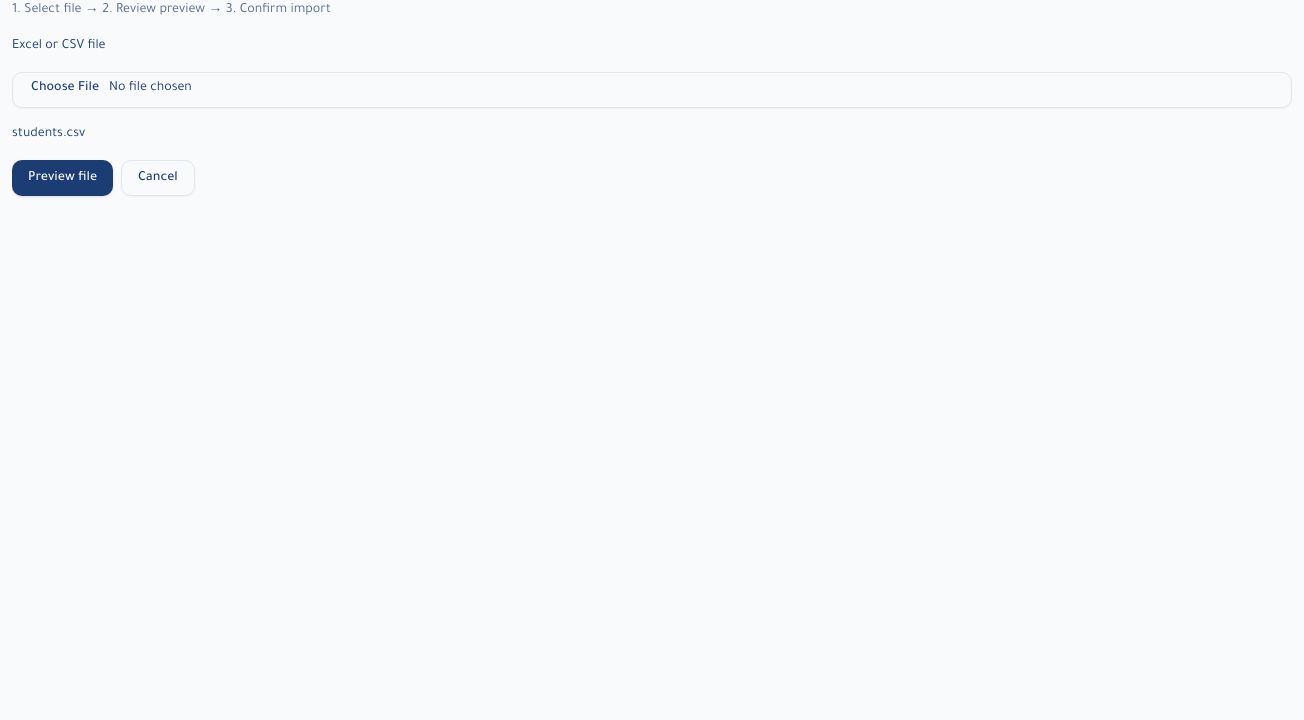
it: mandatory external import review › searches all rows, shows contacts and relationships, and requires warning acknowledgement
Earlier steps of the test are not shown.
Click the button "Preview file": (63, 178) [12,160,113,196]
(page scrolled)
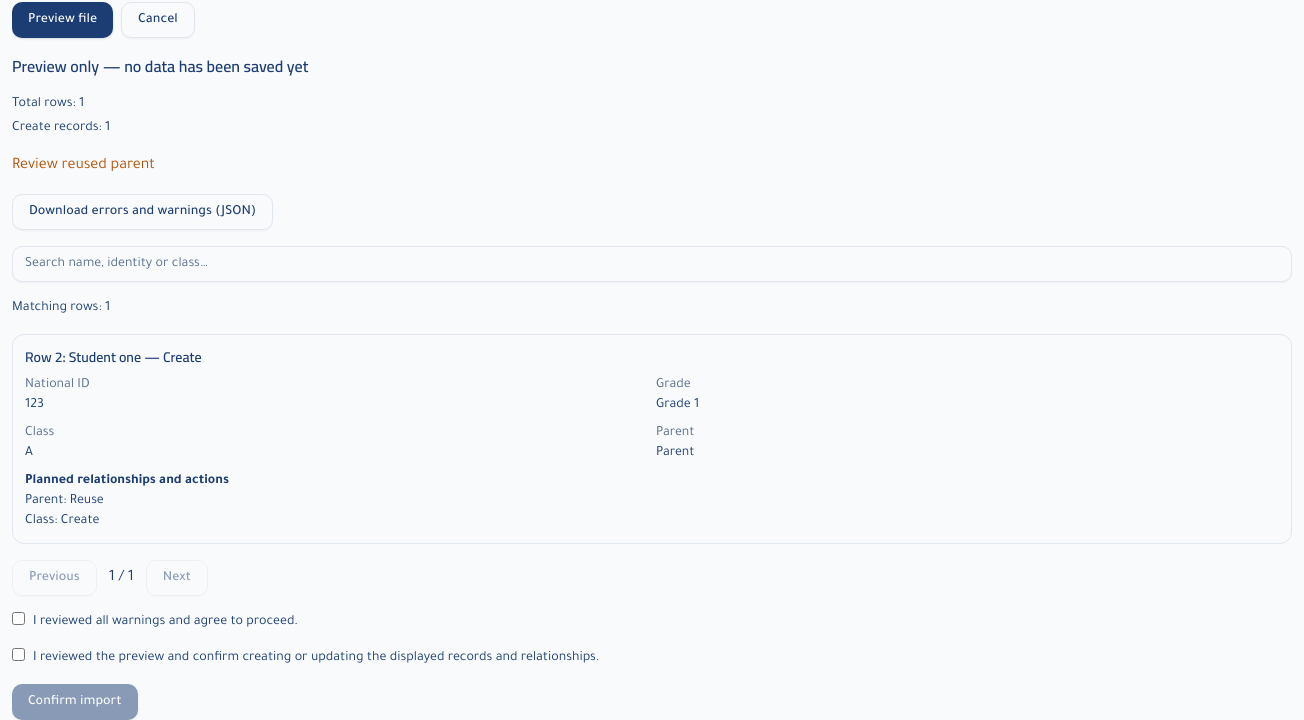
Expected: the heading "Preview only — no data has been saved yet" is shown, [12,51,308,81]
Expected: the text "123" is shown, [25,398,44,412]
Expected: the text "Parent: Reuse" is shown, [25,494,104,508]
Click the checkbox labelled "I reviewed the preview": (18, 654) [12,648,25,661]
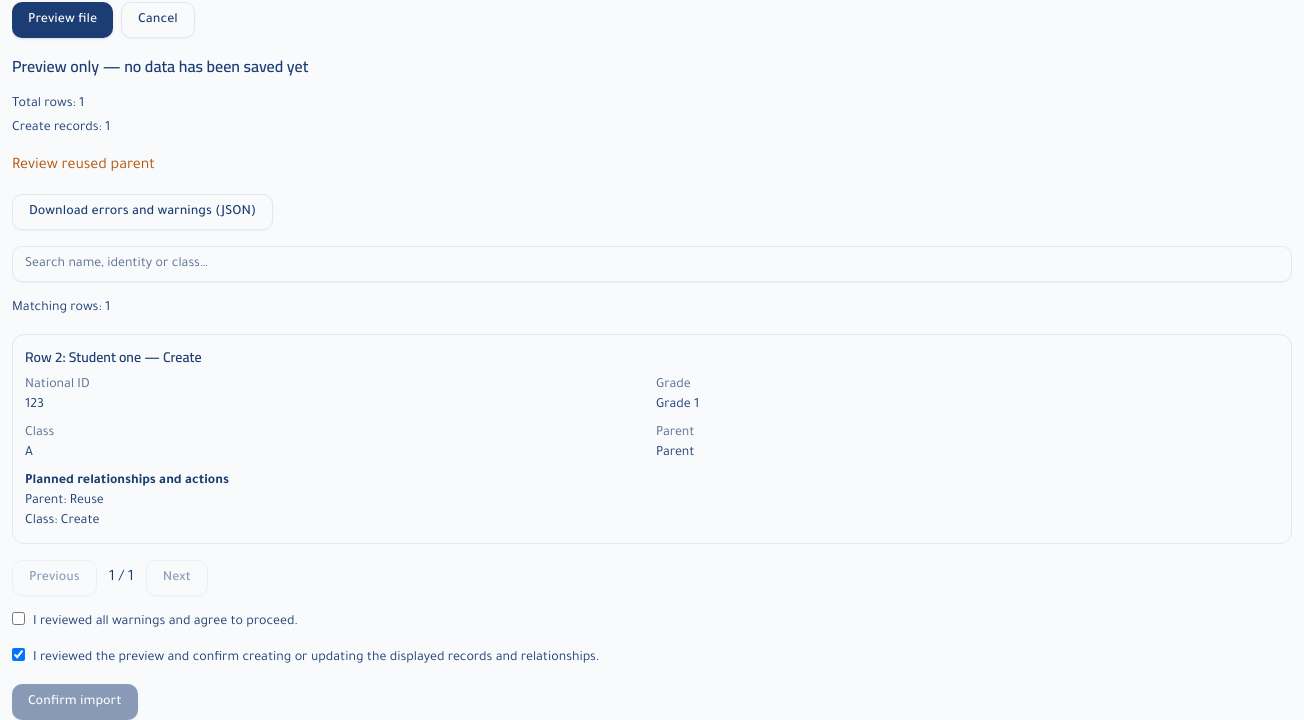
Expected: the button "Confirm import" is disabled, [12,684,138,719]
Click the checkbox labelled "I reviewed all warnings and agree to proceed.": (18, 618) [12,612,25,625]
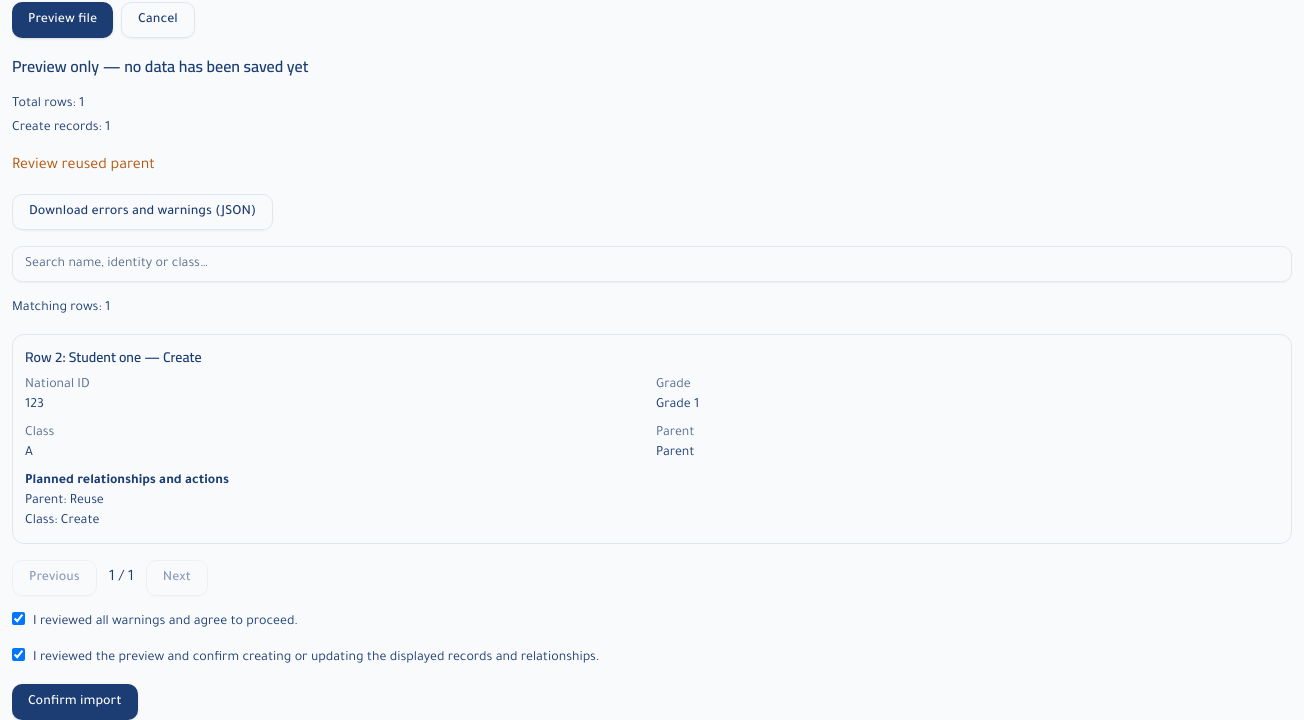
Expected: the button "Confirm import" is enabled, [12,684,138,719]
In the field named "Search preview rows": (652, 264) [12,246,1292,282], type "missing"
(page scrolled)
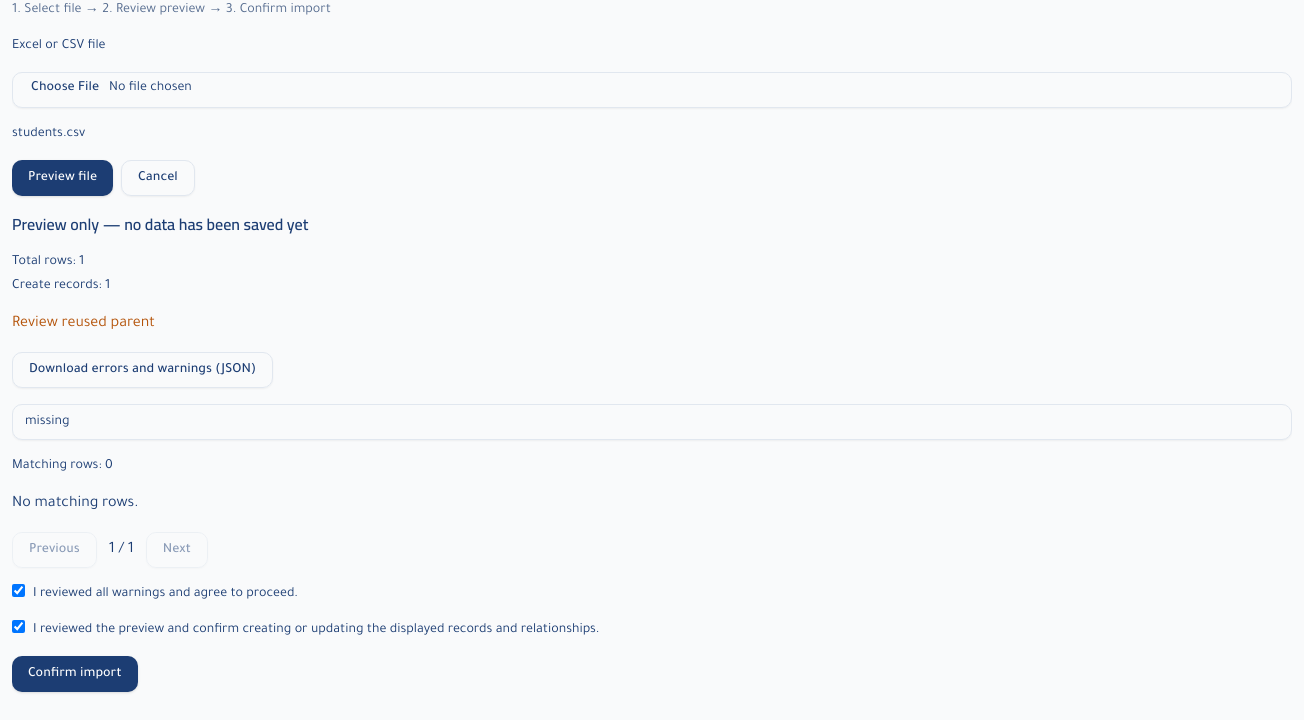
Expected: the text "No matching rows." is shown, [12,496,138,512]
Replace the text in the field named "Search preview rows" with "123": (652, 422) [12,404,1292,440]
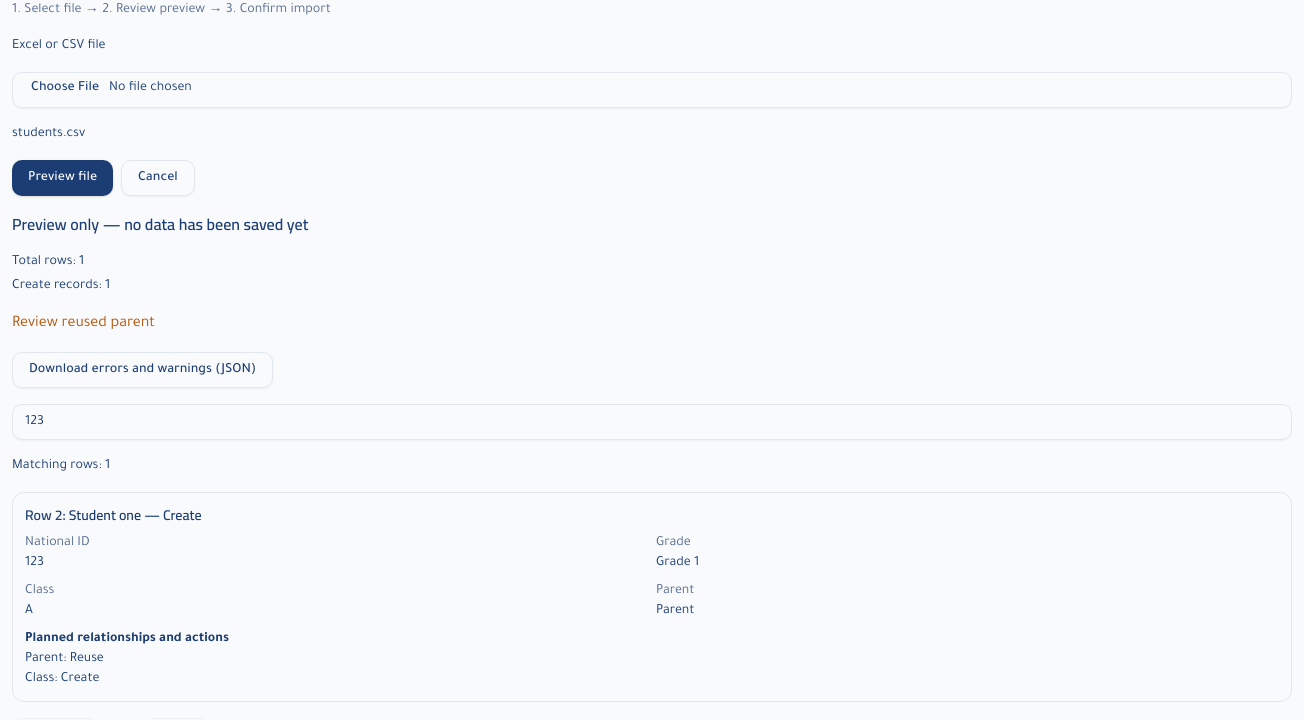
Expected: the text "123" is shown, [25,556,44,570]
